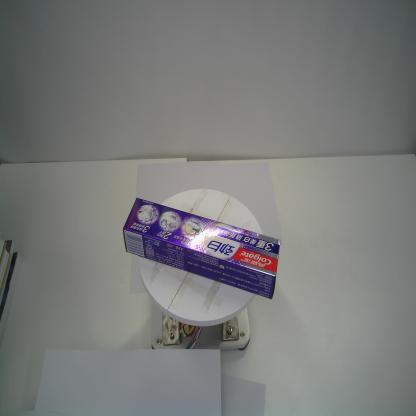Personal Hygiene: (120, 196, 281, 302)
